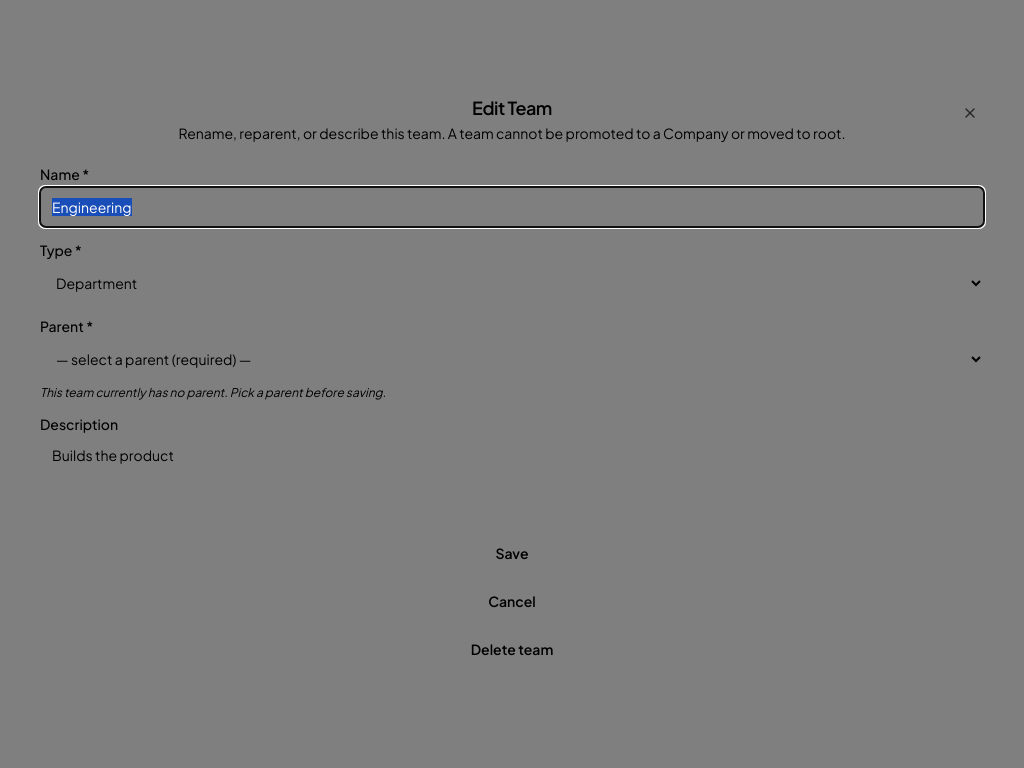
Test case: EditTeamModal › responsive save in-flight disables Save only
Select "Marketing" in the dropdown with test id "select-parent" at (512, 359), box x1=40 y1=339 x2=984 y2=379
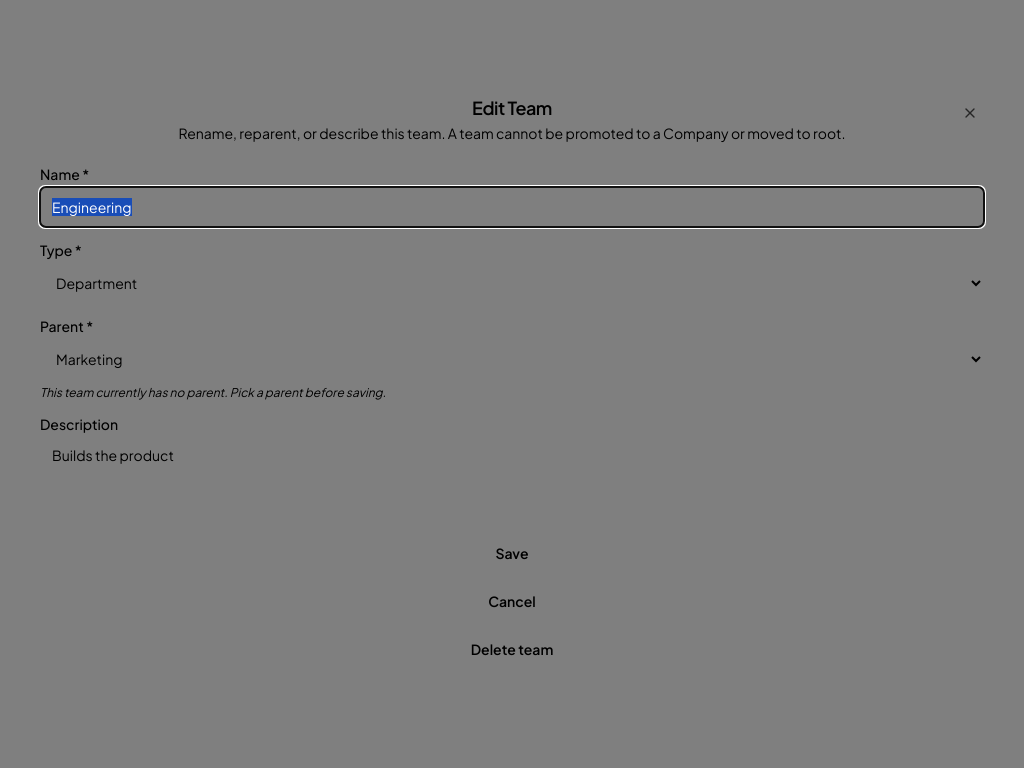
Click the button "Save" at (512, 553), box x1=40 y1=533 x2=984 y2=573
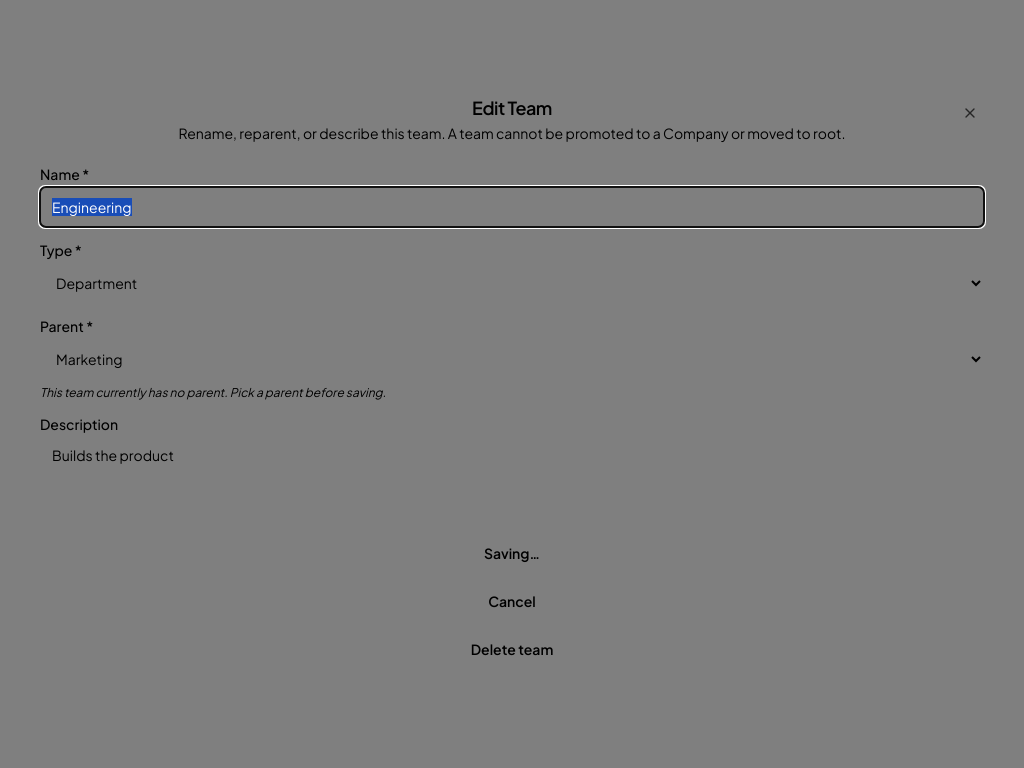
Check: the button "Delete team" is enabled, box x1=40 y1=629 x2=984 y2=669
Check: the button "Saving…" is disabled, box x1=40 y1=533 x2=984 y2=573
